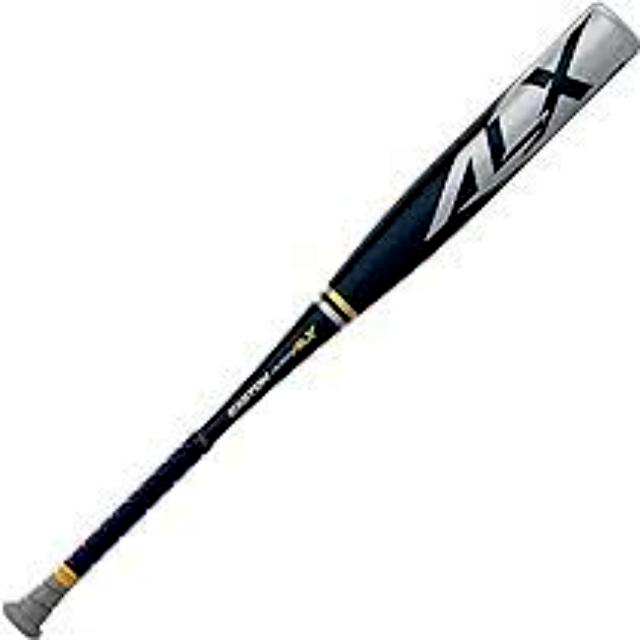baseball bat: (1, 0, 640, 638)
